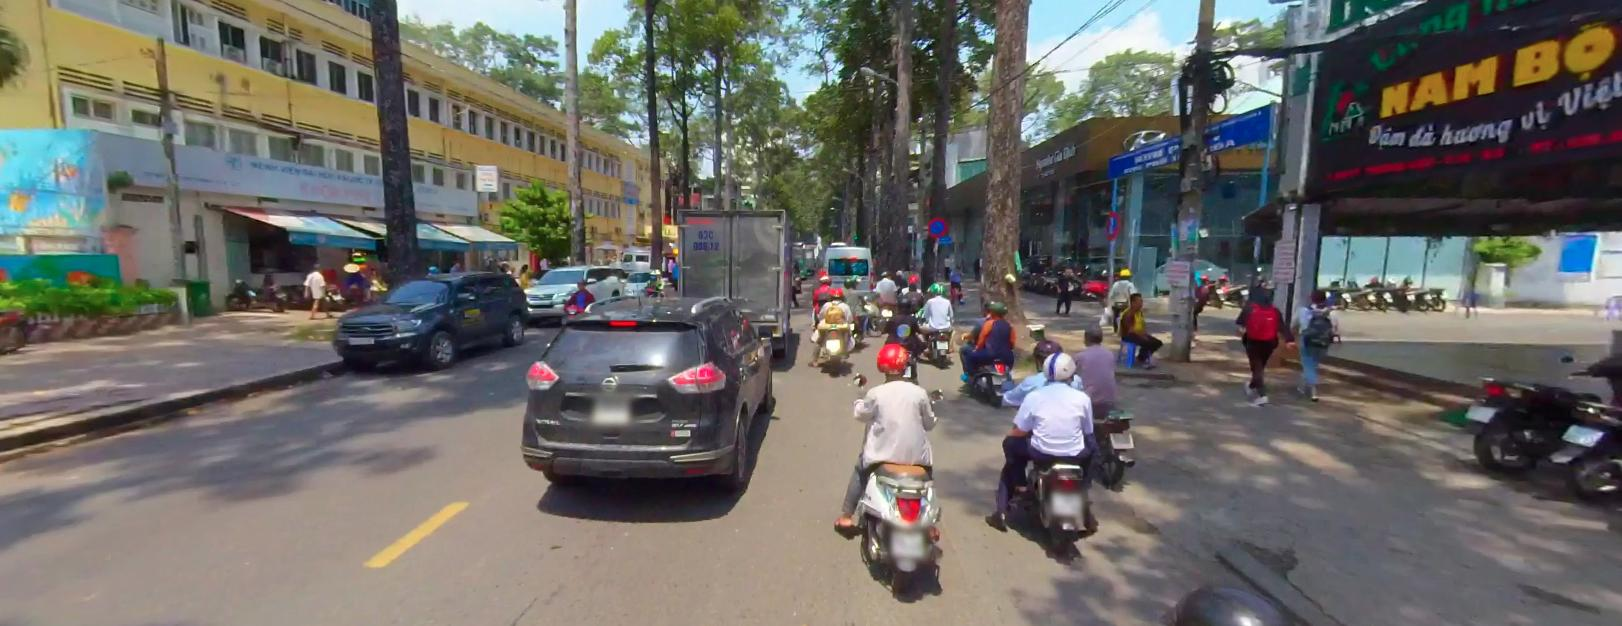Cam dung va do: (1103, 210, 1120, 240), (926, 216, 948, 236), (925, 216, 947, 236), (1105, 211, 1120, 238)
